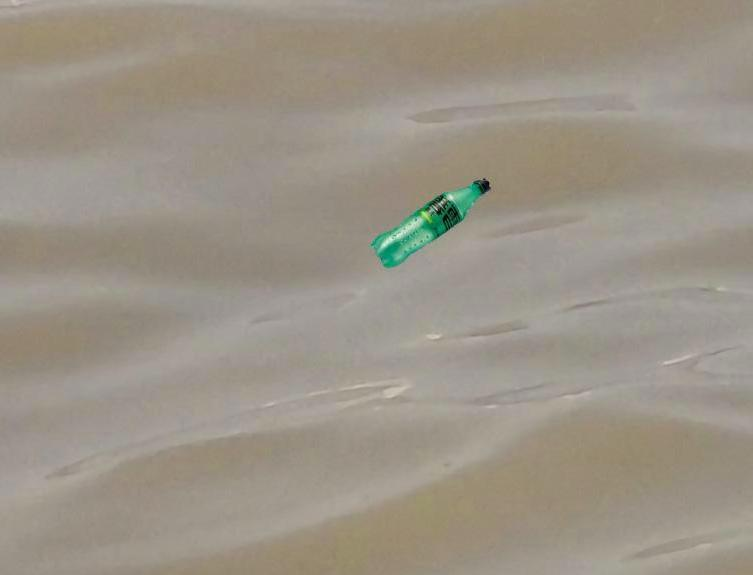Plastic: (372, 175, 494, 274)
